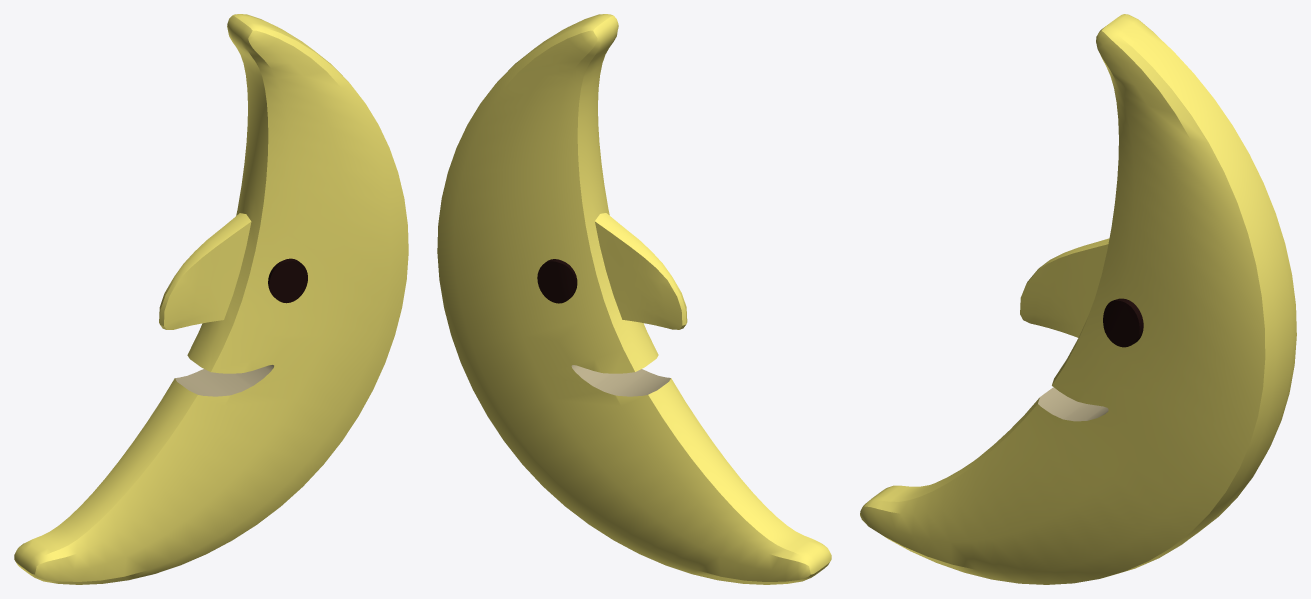
The model's file is First_Quarter_Moon_Face.gltf.
The picture shows the model from 3 angles, left to right: view 1: azimuth 30°, elevation 25°; view 2: azimuth 150°, elevation 25°; view 3: azimuth 330°, elevation 25°; orthographic projection. The views are drawn at different scales.
Visible parts, largest first — view 1: Circle.2106, Circle.2107; view 2: Circle.2106, Circle.2107; view 3: Circle.2106, Circle.2107.
Part boxes in pixels (<box>): Circle.2106: <box>14,14,408,584</box>; Circle.2107: <box>268,258,307,303</box>; Circle.2106: <box>437,14,831,584</box>; Circle.2107: <box>537,259,577,303</box>; Circle.2106: <box>860,14,1296,584</box>; Circle.2107: <box>1103,298,1143,347</box>.
Bounding box in the file's own units: 1.33 × 1.78 × 0.26.
2 materials, 1 textured.
